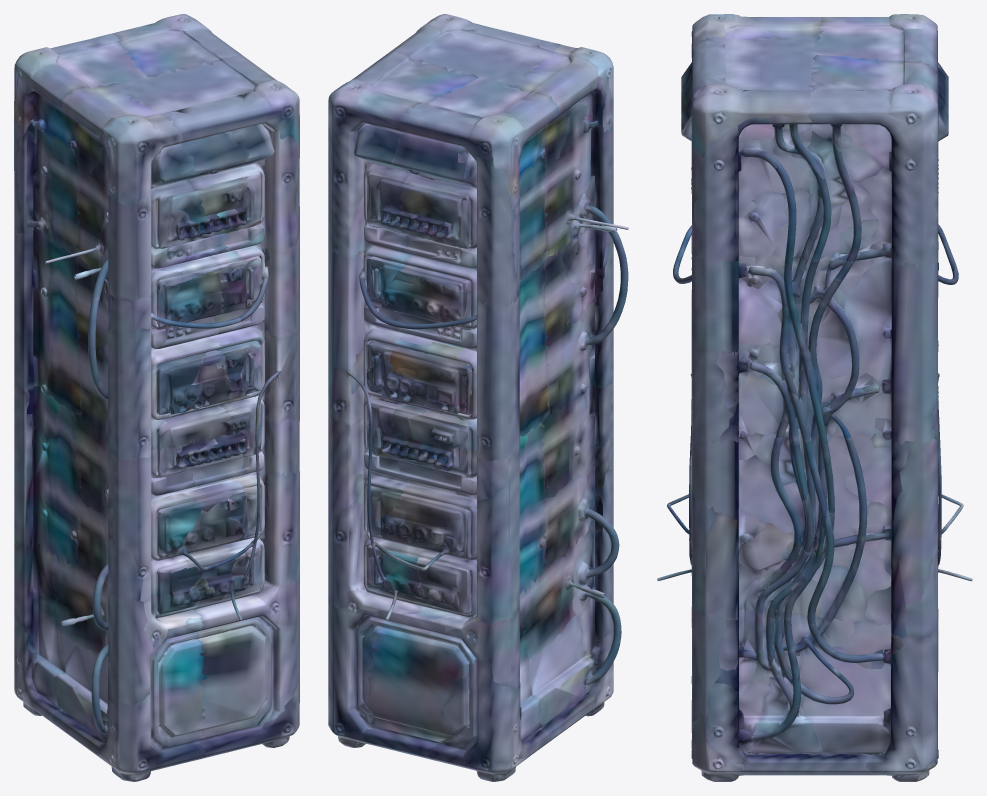
The model's file is server-rack.glb.
3 renders of one model, left to right at view 1: azimuth 30°, elevation 25°; view 2: azimuth 150°, elevation 25°; view 3: azimuth 270°, elevation 25°, orthographic. The views are drawn at different scales.
Bounding box in the file's own units: 0.7037 × 1.9 × 0.7902.
1 material, 1 textured.
